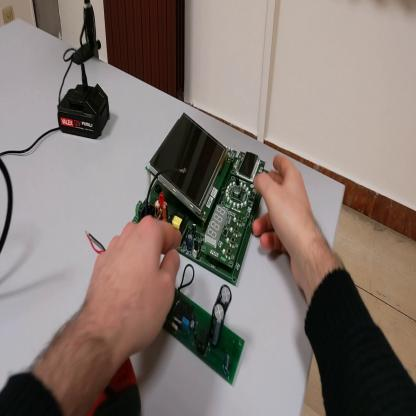electric screwdriver battery: (58, 87, 113, 137)
hand: (85, 216, 181, 358), (253, 152, 320, 284)
high voltage board: (84, 223, 246, 387)
low voltage board: (132, 116, 265, 289)
